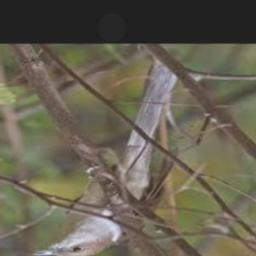Cuckoo: (35, 68, 180, 256)
